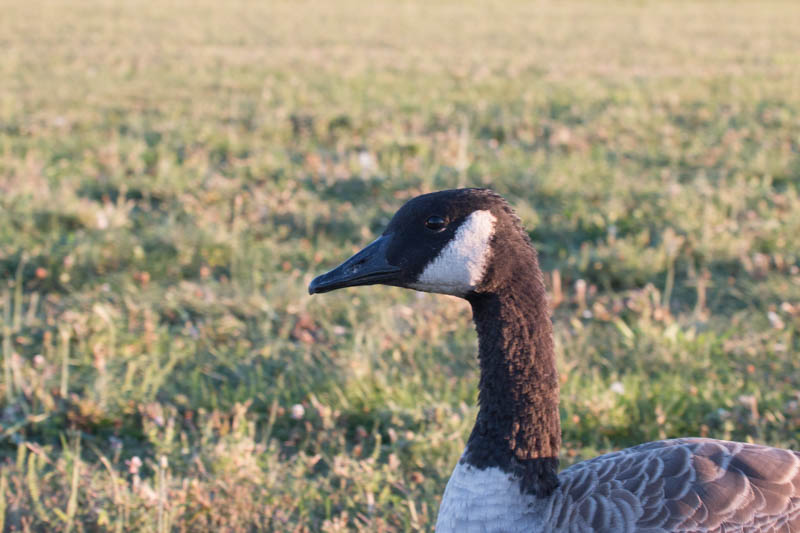goose-head: (306, 185, 534, 303)
